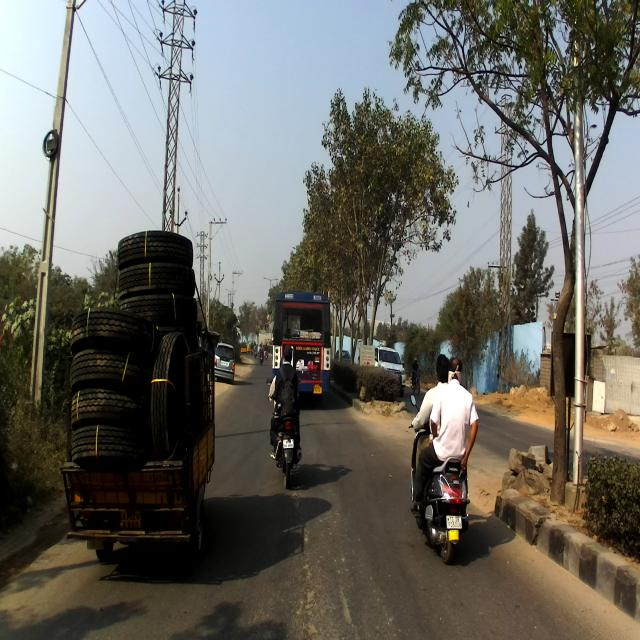auto ahead at: (61, 226, 220, 568)
motorcycle ahead at: (415, 451, 476, 570), (265, 413, 307, 493)
